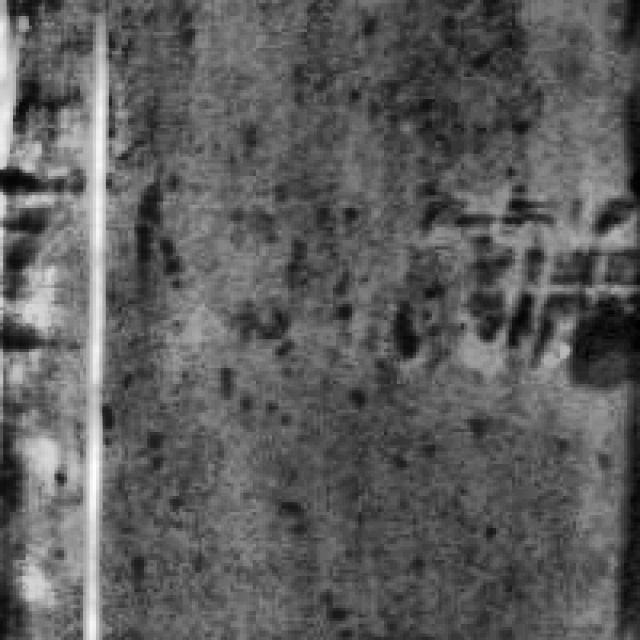Inclusion: (64, 19, 115, 637)
Rolled_in_Scale: (211, 172, 416, 596)
Scratches: (531, 282, 637, 387)
